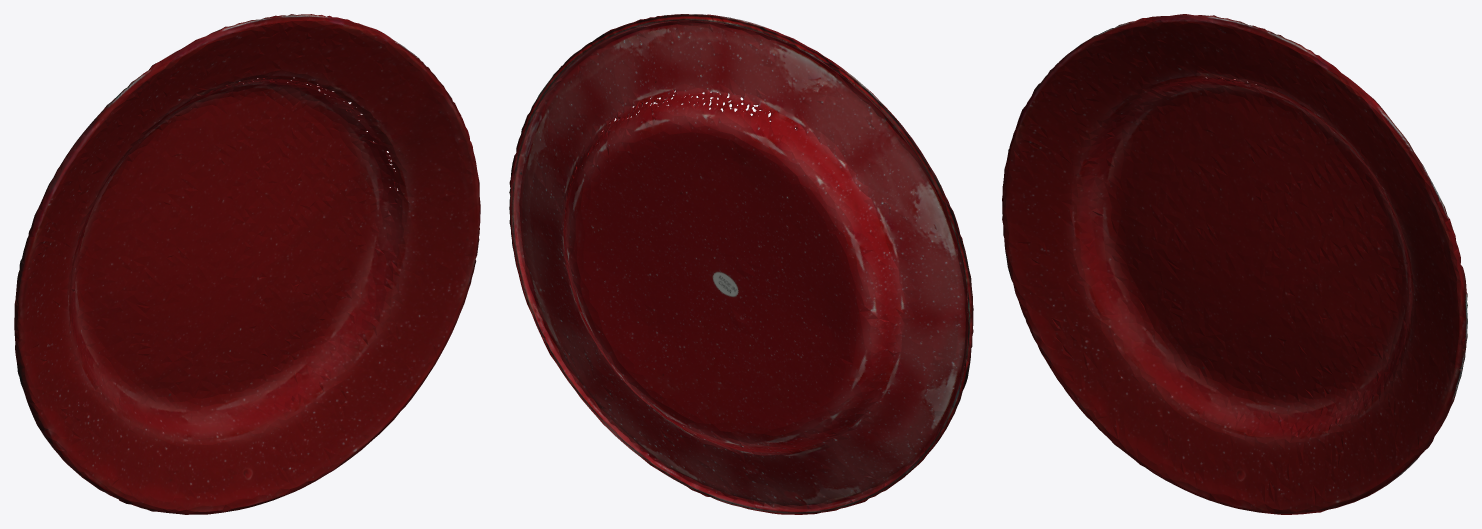
The model's file is plate.glb.
The picture shows the model from 3 angles, left to right: view 1: azimuth 30°, elevation 25°; view 2: azimuth 150°, elevation 25°; view 3: azimuth 330°, elevation 25°; orthographic projection.
Parts seen in each view (by area): view 1: textured.obj; view 2: textured.obj; view 3: textured.obj.
Boxes of the visible parts, <box> form: textured.obj: <box>14,14,480,514</box>; textured.obj: <box>509,14,973,514</box>; textured.obj: <box>1002,14,1467,514</box>.
Size of the model in its own units: 0.26 by 0.2599 by 0.0265.
Materials: 1 (1 with a texture image).
